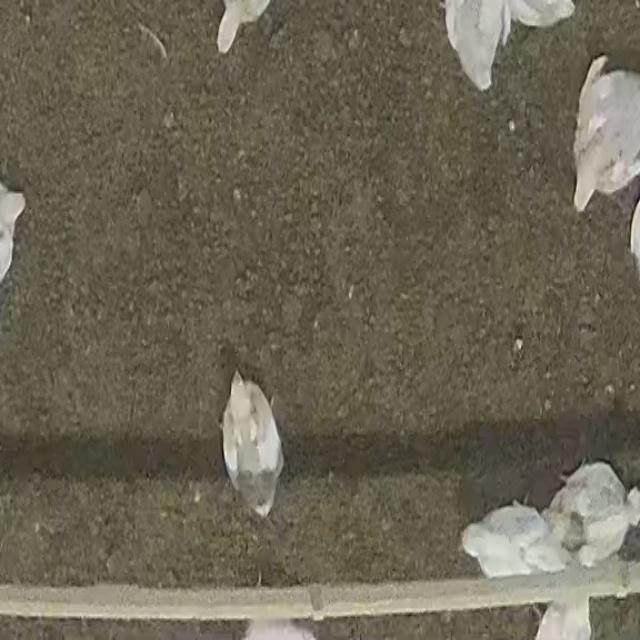chicken: (214, 365, 288, 523), (457, 495, 572, 590)
